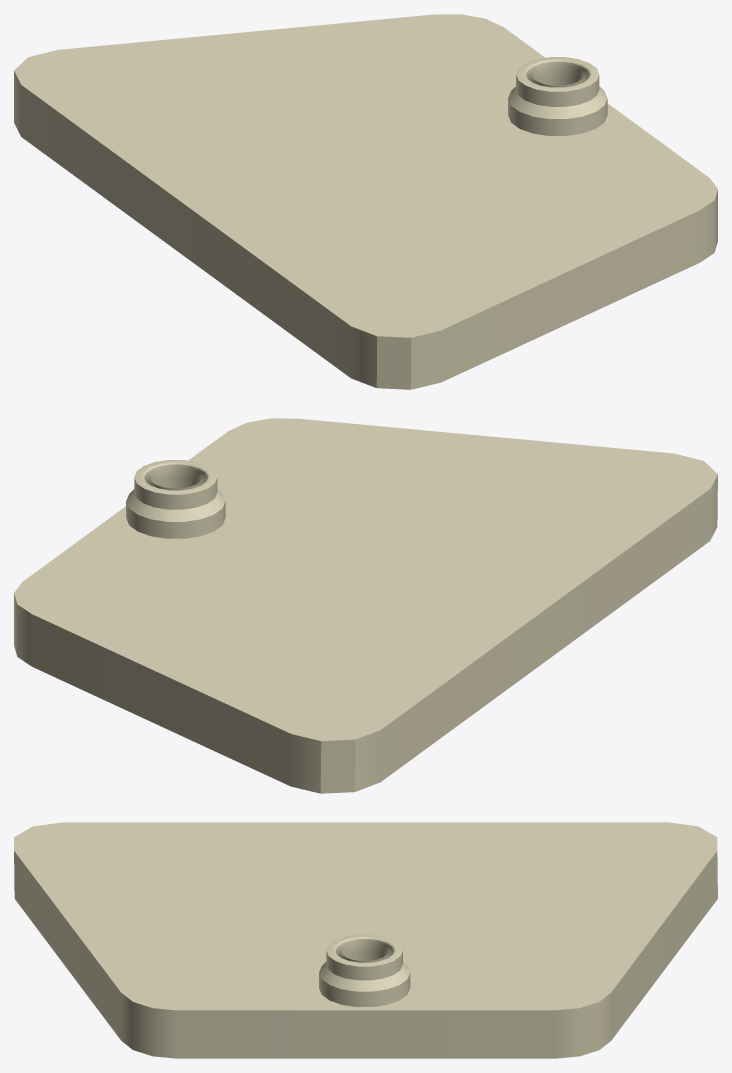
The model's file is CartShelf.fbx.
3 views of the same model, one above another, from view 1: azimuth 30°, elevation 25°; view 2: azimuth 150°, elevation 25°; view 3: azimuth 270°, elevation 25° (orthographic). The views are drawn at different scales.
Parts seen in each view (by area): view 1: pCube2; view 2: pCube2; view 3: pCube2.
Boxes of the visible parts, x1,y1,x2,y2 form: pCube2: [14, 14, 717, 389]; pCube2: [14, 418, 717, 793]; pCube2: [14, 822, 717, 1058].
Size of the model in its own units: 93.93 by 20.12 by 148.
